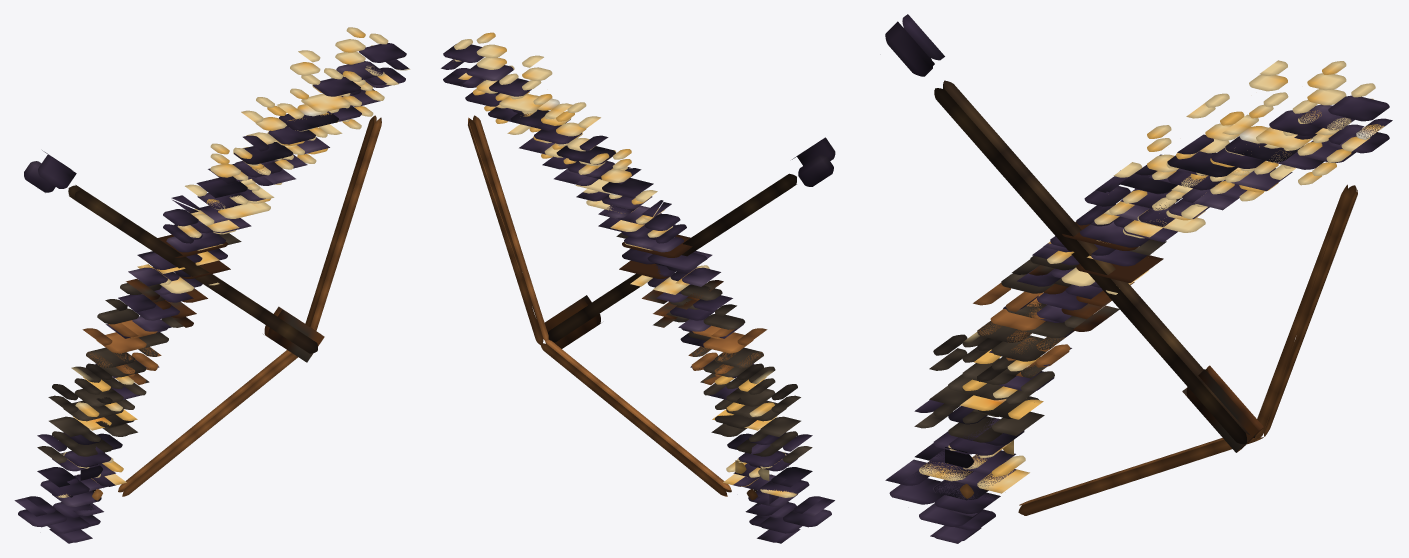
File: obsidian_longbow_pulling_2.obj
3 views of the same model, side by side, from view 1: azimuth 30°, elevation 25°; view 2: azimuth 150°, elevation 25°; view 3: azimuth 330°, elevation 25° (orthographic). The views are drawn at different scales.
Visible parts, largest first — view 1: lit, fire; view 2: lit, fire; view 3: lit, fire.
Part boxes in pixels (x1,y1,x2,y2): lit: (14,27,410,543); fire: (118,115,381,496); lit: (441,32,835,543); fire: (468,115,731,496); lit: (885,14,1392,543); fire: (1018,184,1357,515).
Bounding box in the file's own units: 1.06 × 1.17 × 0.125.
